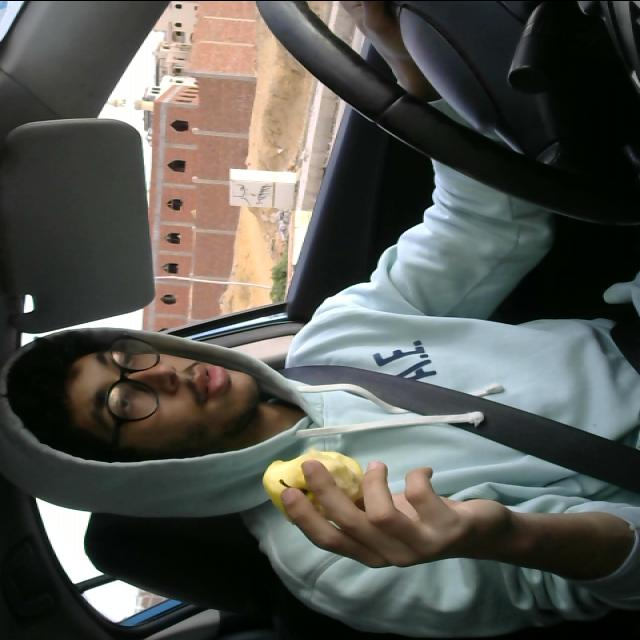eating: (255, 440, 373, 526)
